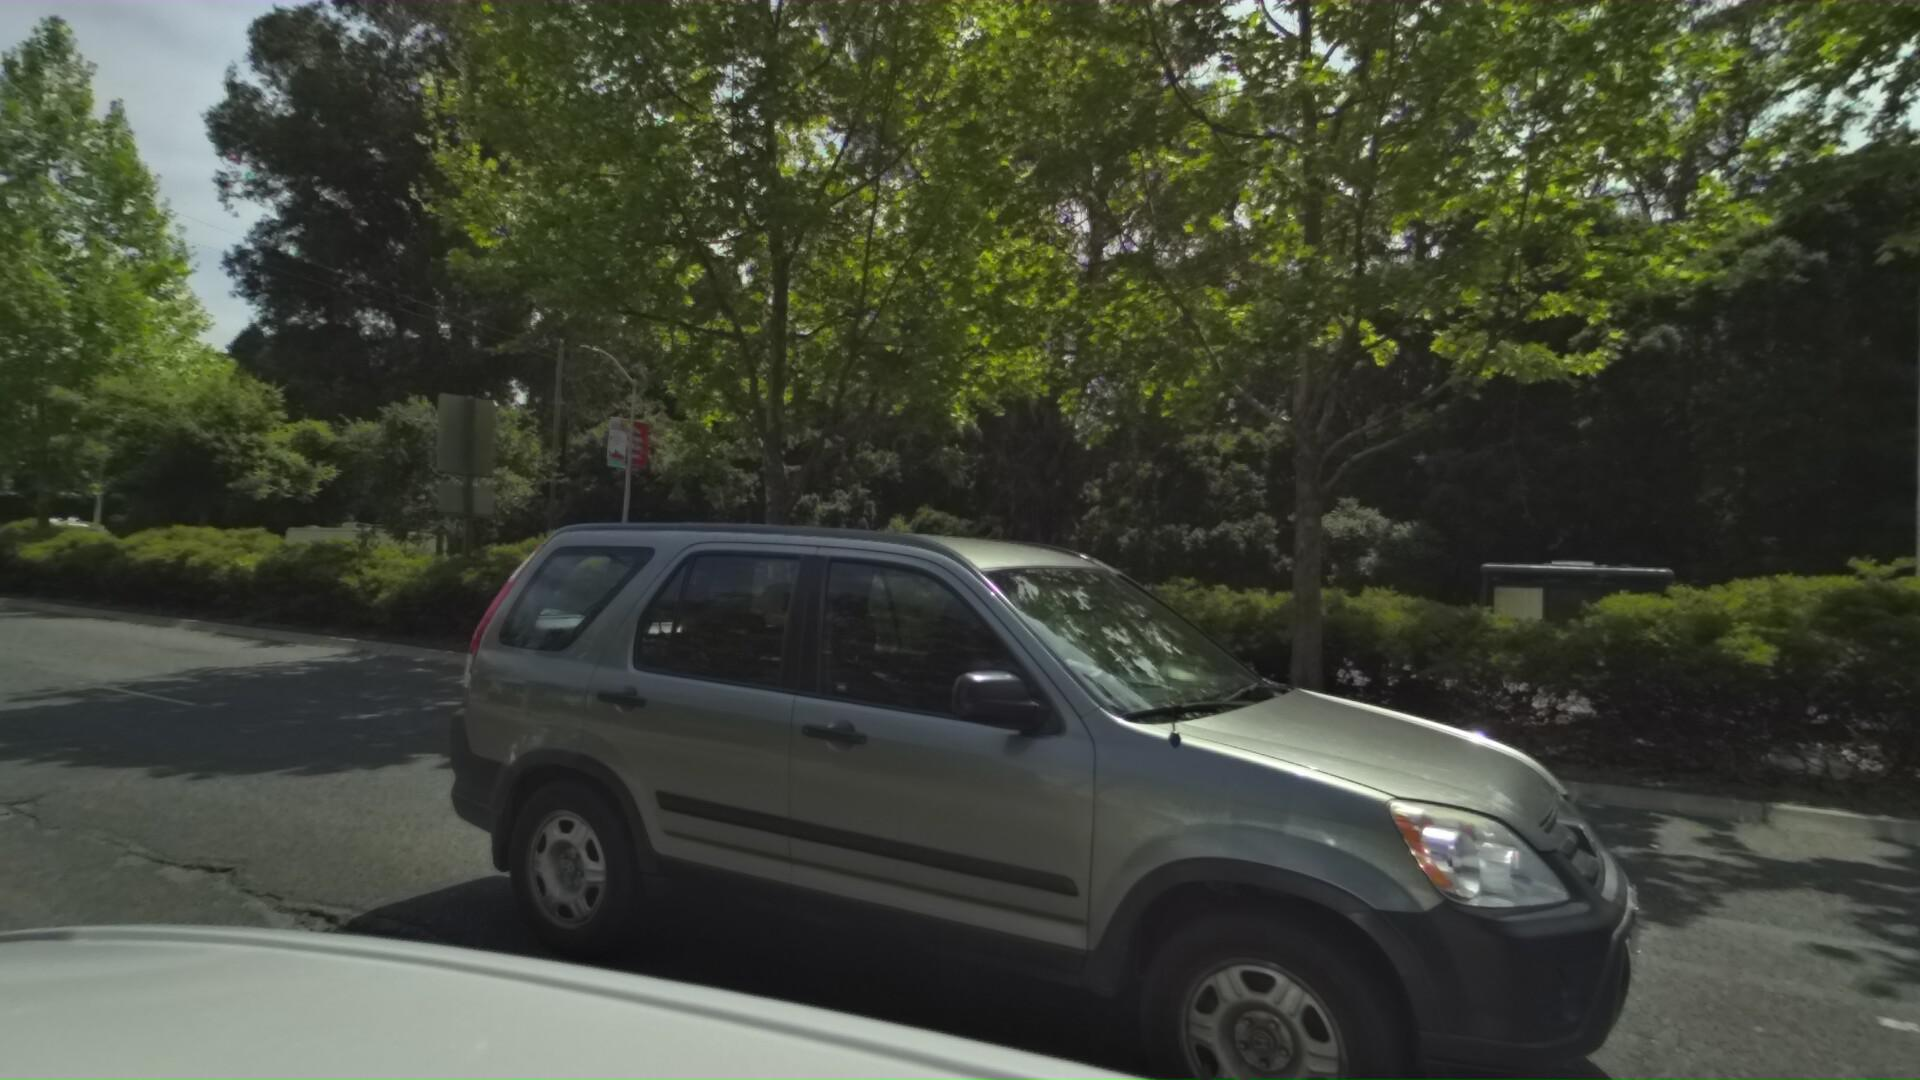car: (411, 501, 1882, 1080)
other_vehicle: (256, 520, 459, 611), (0, 517, 112, 580), (0, 512, 1, 568)
